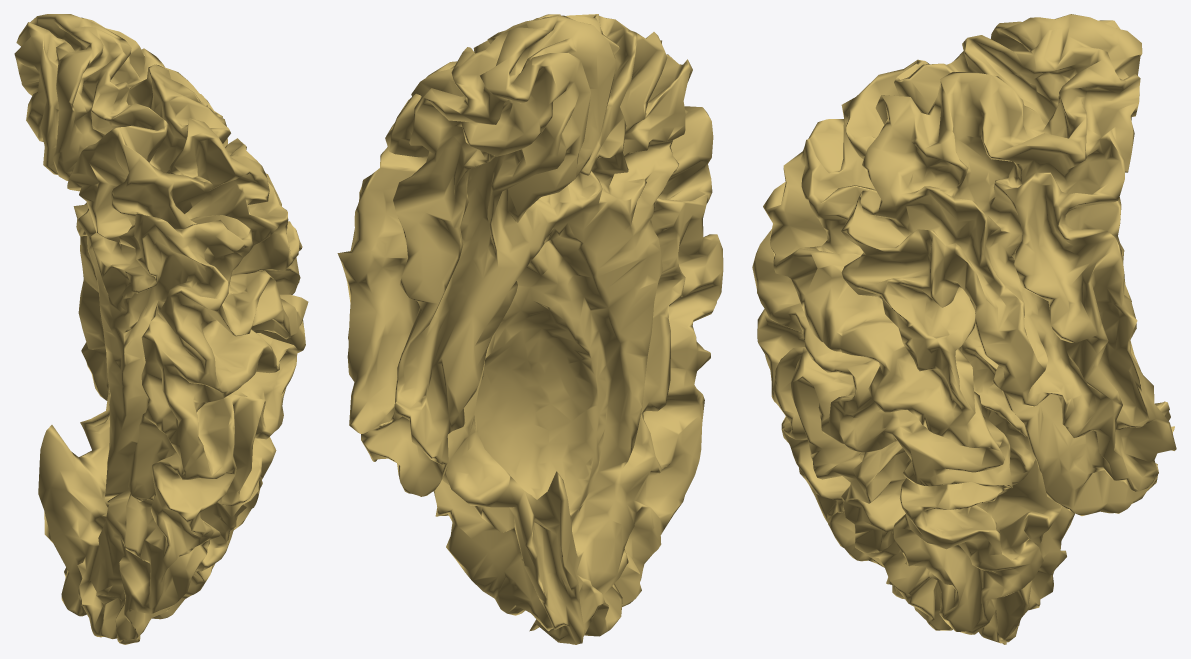
3 renders of one model, left to right at view 1: azimuth 30°, elevation 25°; view 2: azimuth 150°, elevation 25°; view 3: azimuth 270°, elevation 25°, orthographic. The views are drawn at different scales.
Parts seen in each view (by area): view 1: 左侧端脑白质; view 2: 左侧端脑白质; view 3: 左侧端脑白质.
Boxes of the visible parts, x1,y1,x2,y2 form: 左侧端脑白质: (14,14,308,644); 左侧端脑白质: (337,14,723,644); 左侧端脑白质: (752,14,1176,644).
Bounding box in the file's own units: 0.0938 × 0.2577 × 0.1615.
